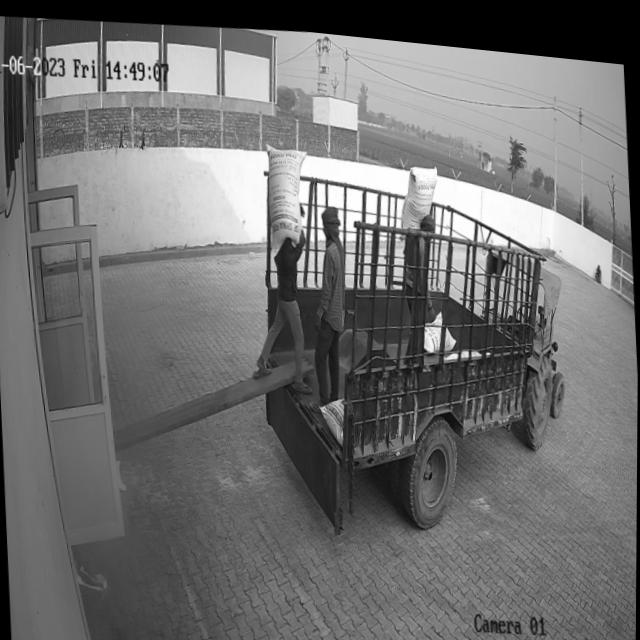sack: (265, 134, 312, 259), (397, 154, 441, 237)
